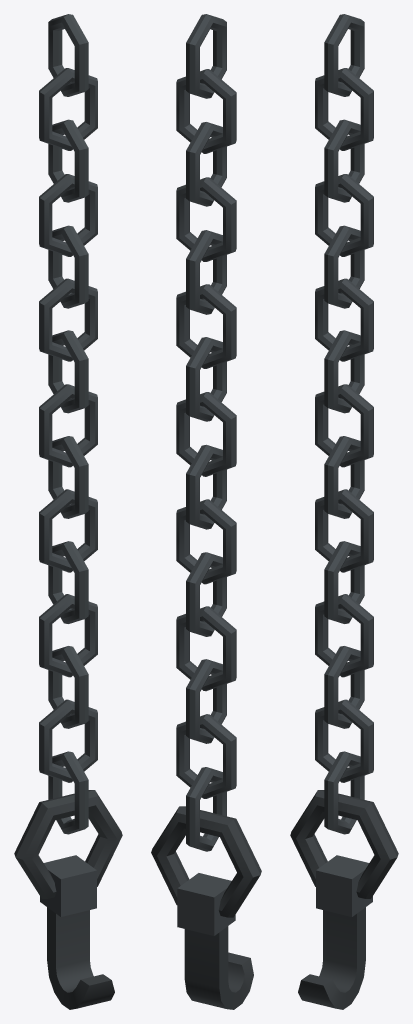
File: Blacksmith_05.glb
3 renders of one model, left to right at view 1: azimuth 30°, elevation 25°; view 2: azimuth 150°, elevation 25°; view 3: azimuth 330°, elevation 25°, orthographic. The views are drawn at different scales.
Visible parts, largest first — view 1: Blacksmith_05_LOD0; view 2: Blacksmith_05_LOD0; view 3: Blacksmith_05_LOD0.
Boxes of the visible parts, <box> form: Blacksmith_05_LOD0: <box>14,14,122,1009</box>; Blacksmith_05_LOD0: <box>151,14,261,1009</box>; Blacksmith_05_LOD0: <box>290,14,398,1009</box>.
Size of what is drawn, in the model's own units: 0.0906 by 0.7989 by 0.0721.
Materials: 1 (1 with a texture image).
